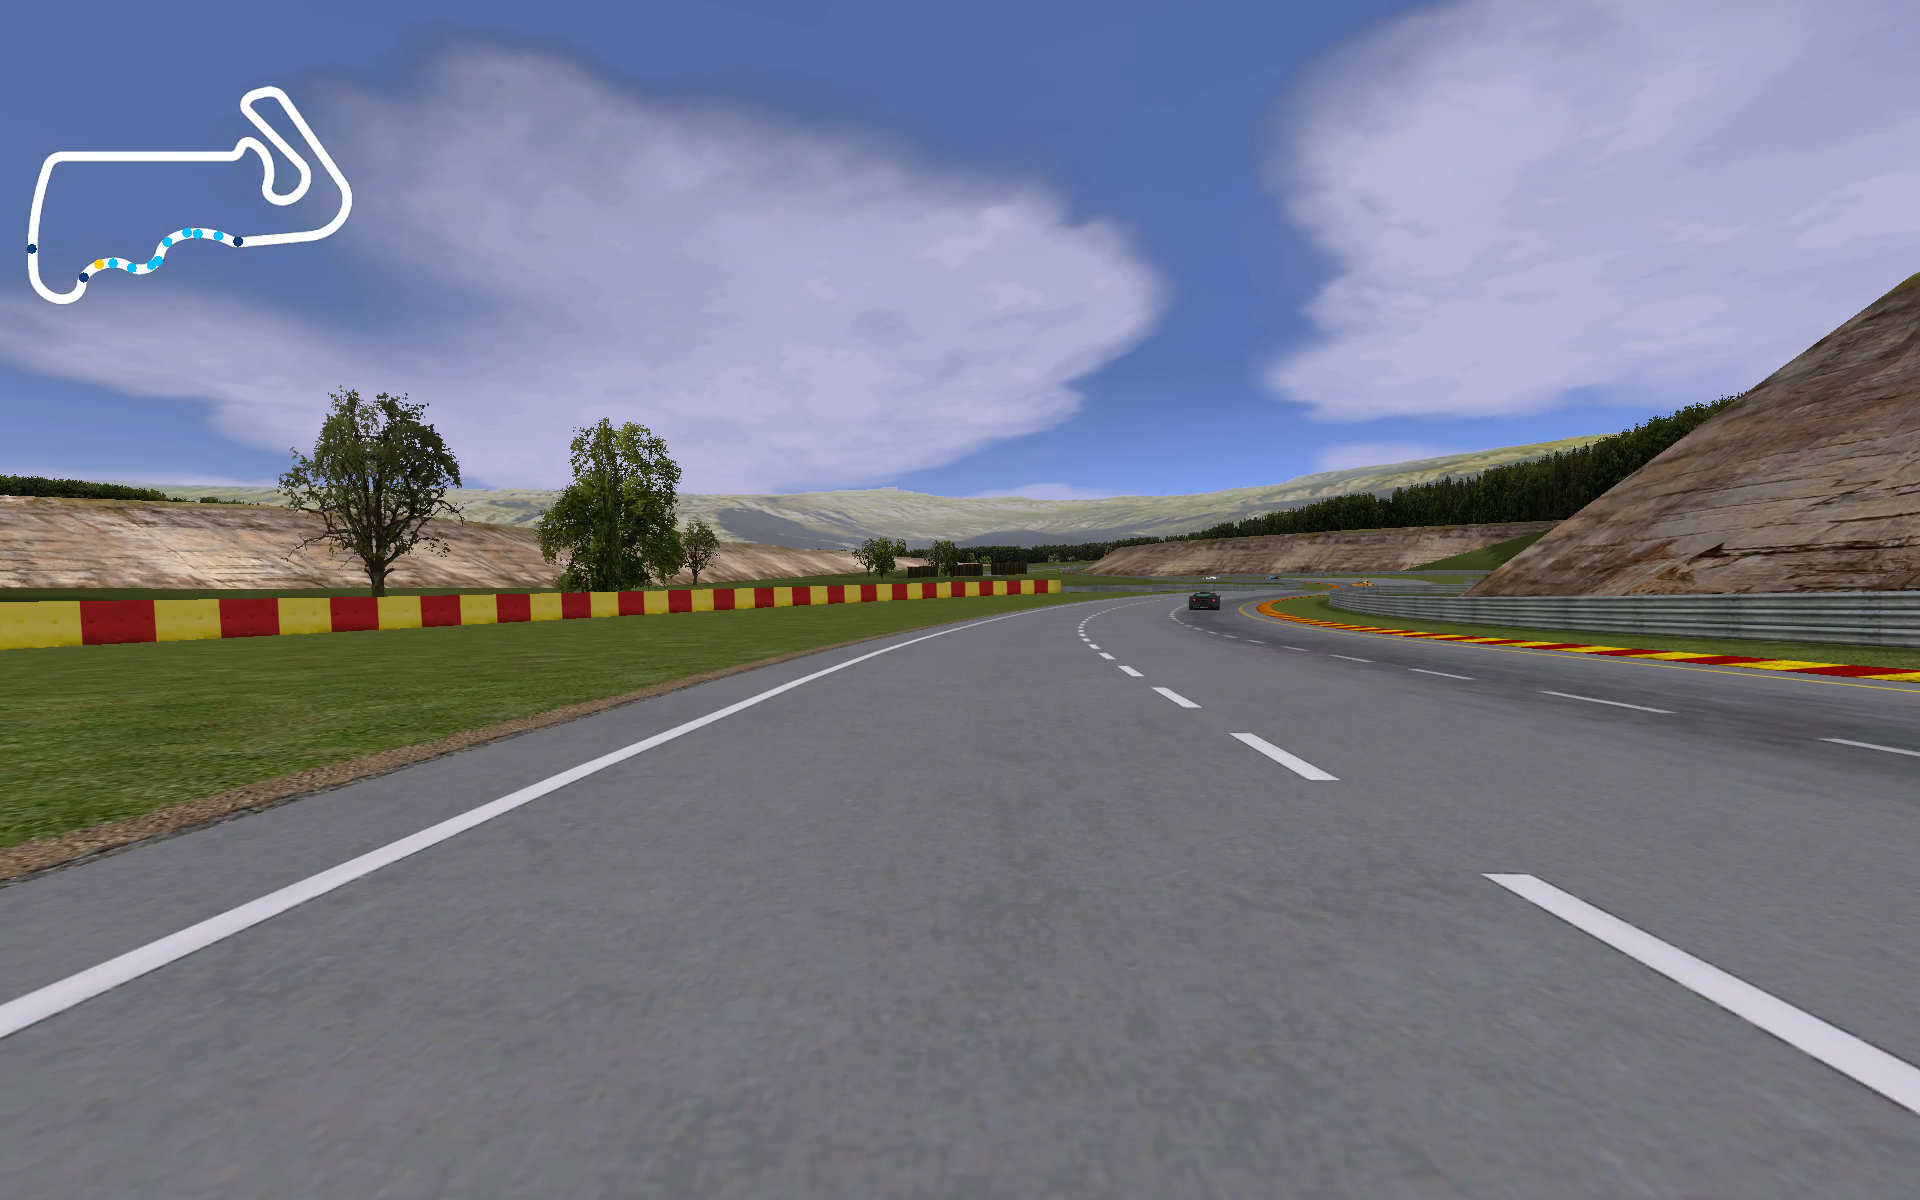car: (1186, 588, 1223, 612)
